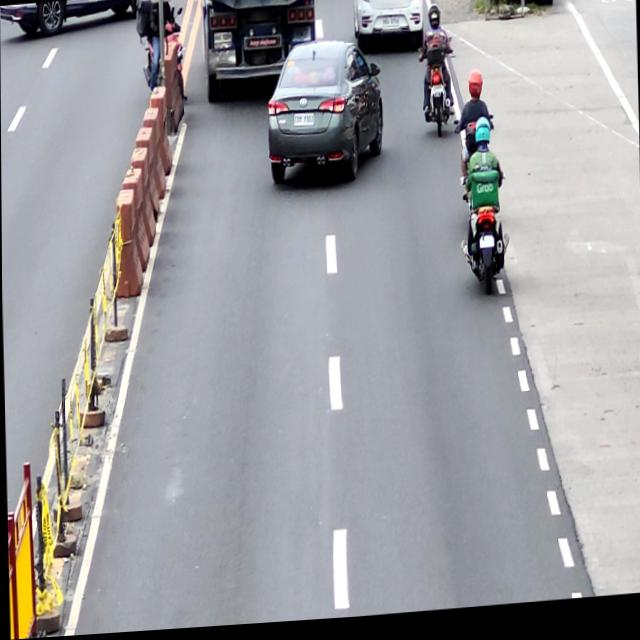Car: (263, 37, 385, 193), (351, 0, 425, 59)
Jeep: (461, 176, 510, 306), (419, 42, 457, 146), (454, 116, 496, 177)
License-Plate: (293, 116, 314, 132), (213, 33, 232, 47), (478, 240, 493, 255), (382, 21, 400, 33), (431, 88, 443, 100)
Truck: (200, 0, 319, 109)
